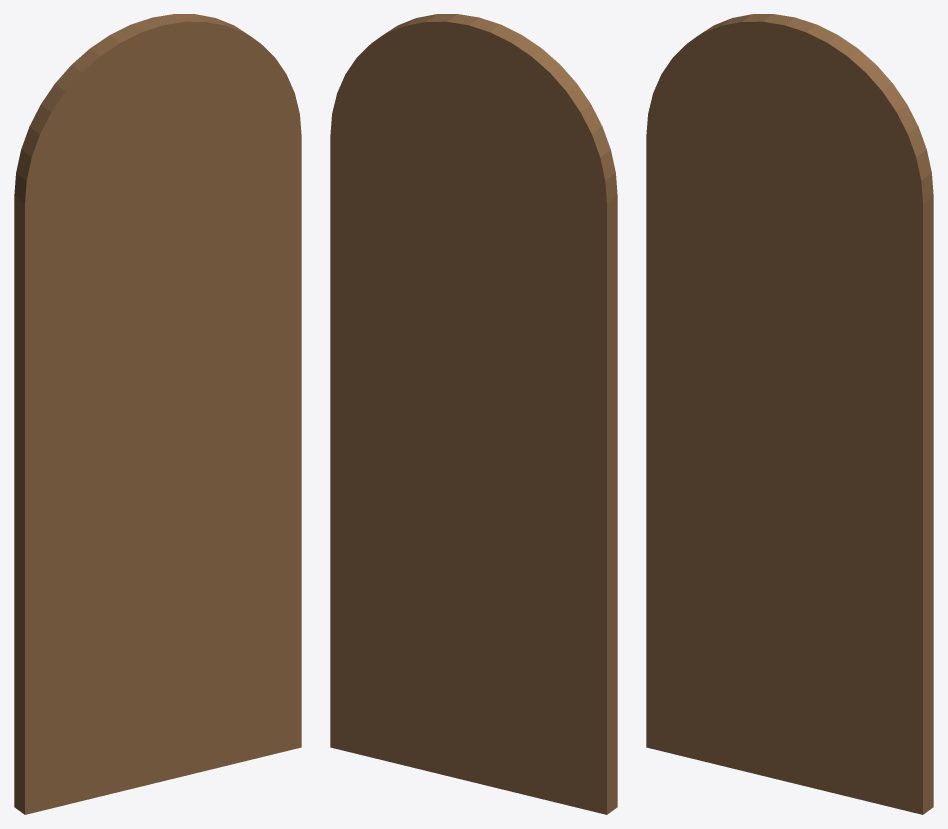
Rendered from door.glb.
3 renders of one model, left to right at view 1: azimuth 30°, elevation 25°; view 2: azimuth 150°, elevation 25°; view 3: azimuth 330°, elevation 25°, orthographic.
Parts seen in each view (by area): view 1: Door_Leaf; view 2: Door_Leaf; view 3: Door_Leaf.
Boxes of the visible parts, x1,y1,x2,y2 form: Door_Leaf: (14,14,301,814); Door_Leaf: (330,14,617,814); Door_Leaf: (646,14,933,814).
Size of the model in its own units: 0.9 by 2.35 by 0.06.
